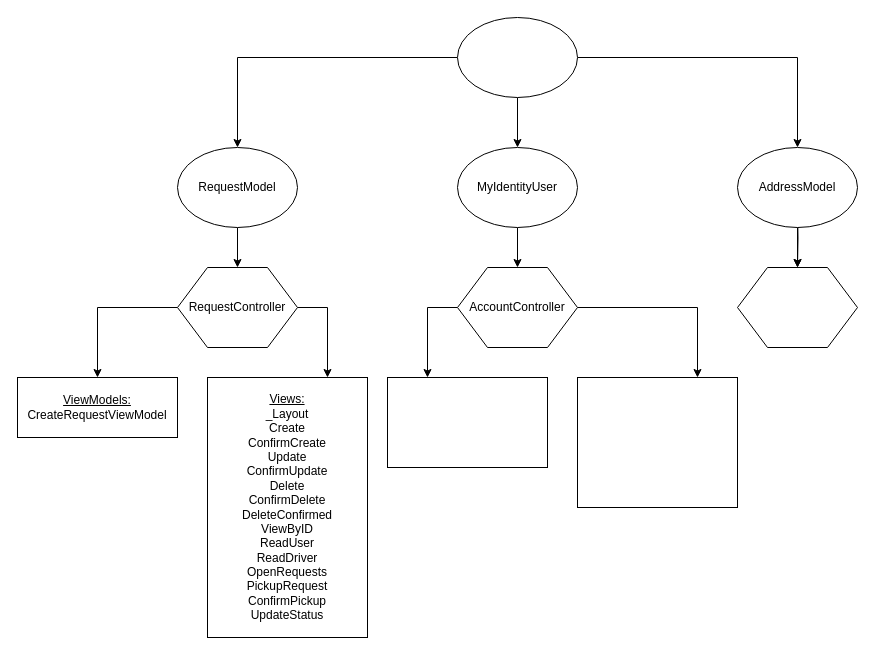
Some shapes in this 875 by 655 pixel diagram are drawn without their labels. The box of each missing label's shape, as (x1, y1, x2, y2) in pixels:
AddressController: (736, 266, 858, 348)
MyIdentityContext: (456, 16, 578, 98)
ViewModels: AccountViewModel BecomeDriverViewModel SignUpViewModel: (386, 376, 548, 468)
Views: _Layout Index Signup Login BecomeDriver: (576, 376, 738, 508)
